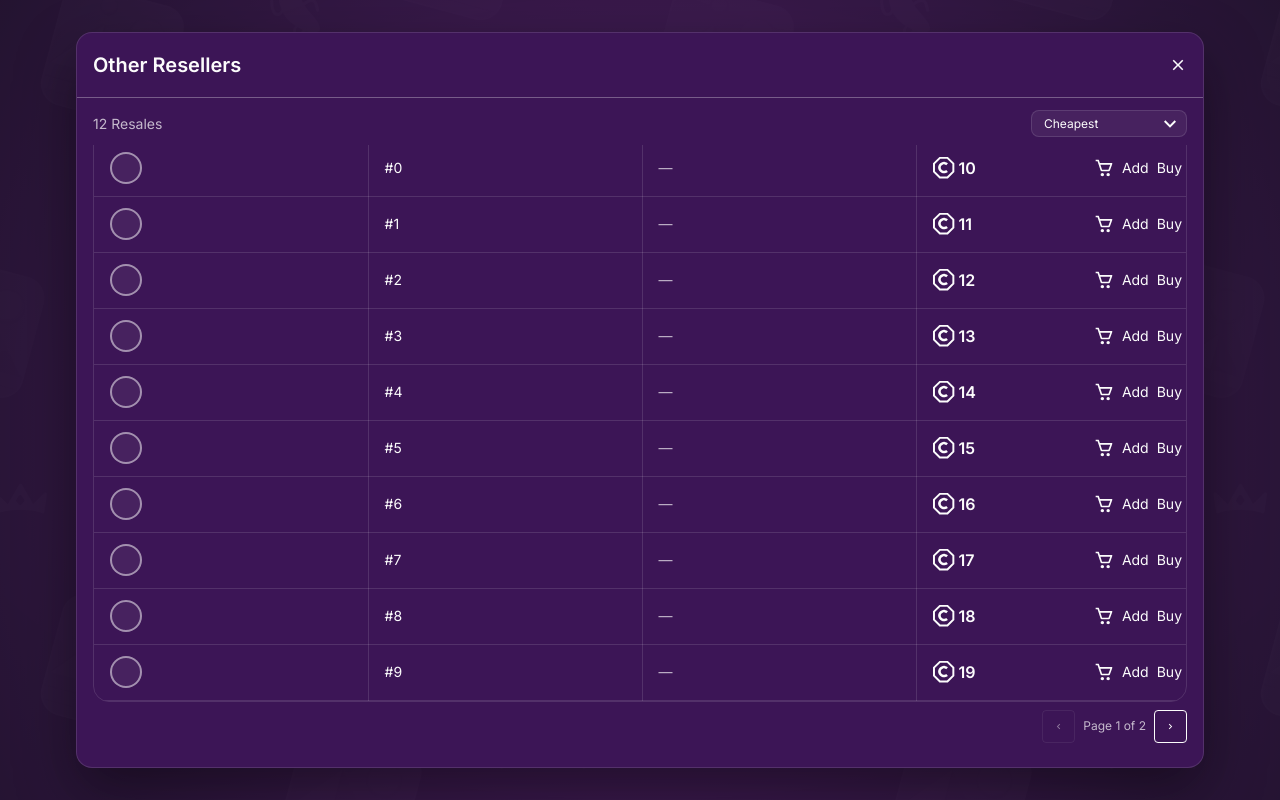
Test: ResellersModal › sorts by most expensive and returns to page one
(page scrolled)
Click the button with test id "resale-next-page".
click(1170, 726)  # box [1154,710,1187,743]
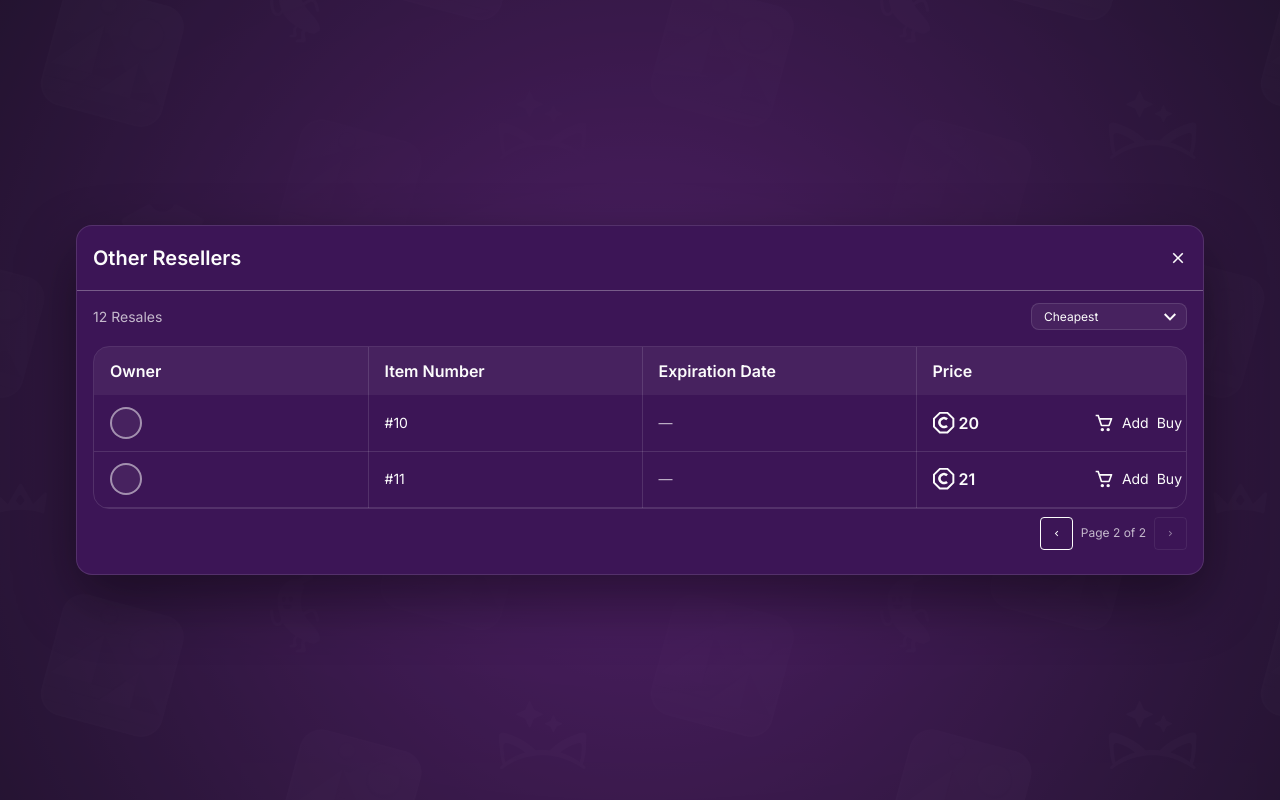
Expected: the text with test id "resale-page-label" reads "Page 2 of 2", [1081,525,1146,540]
Select "Most expensive" in the dropdown with test id "resales-sort" at [1113, 317], box [1044,308,1182,325]
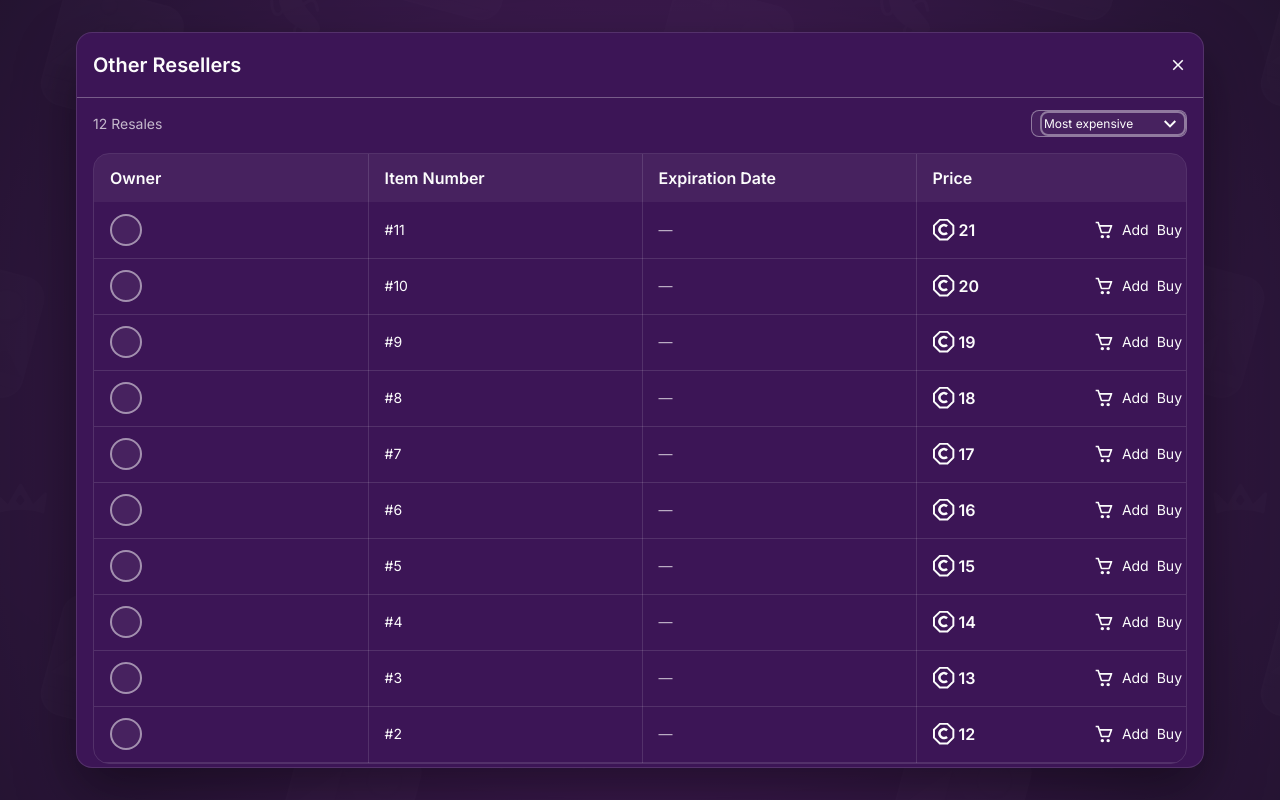
Expected: the text with test id "resale-issued" reads "#11", [384,221,405,238]
Expected: the text with test id "resale-issued" reads "#2", [384,725,402,742]
